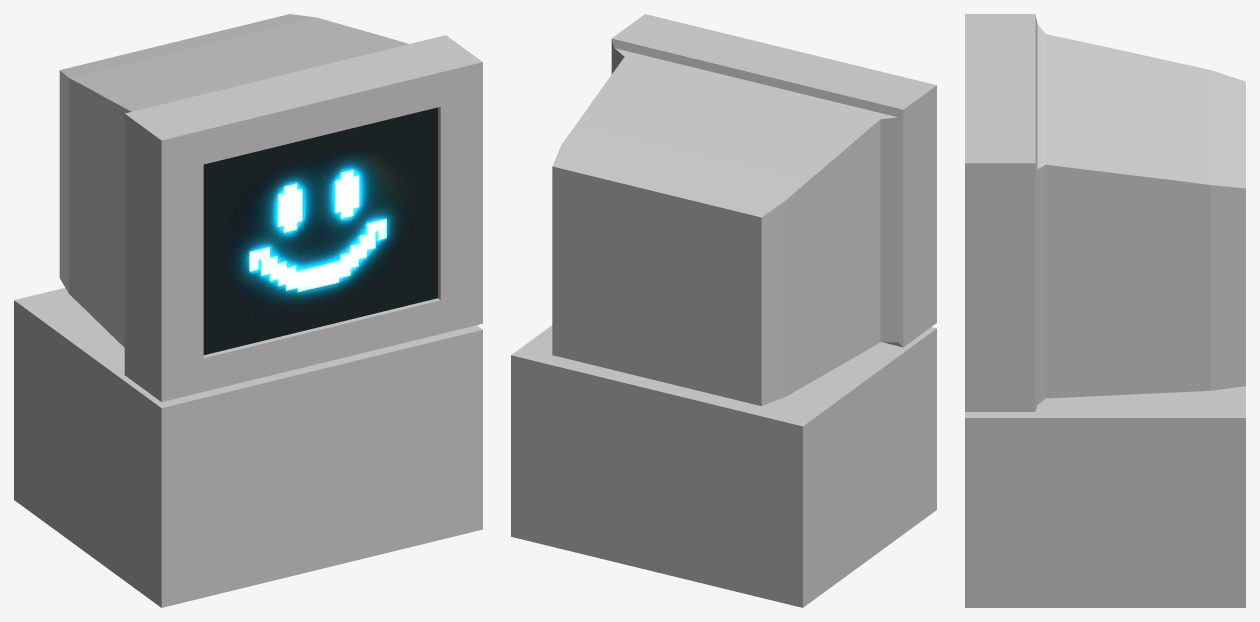
The model's file is MonitorStylised-103.glb.
3 renders of one model, left to right at view 1: azimuth 30°, elevation 25°; view 2: azimuth 150°, elevation 25°; view 3: azimuth 270°, elevation 25°, orthographic. The views are drawn at different scales.
Parts seen in each view (by area): view 1: Cube.002, Cube.001; view 2: Cube.002, Cube.001; view 3: Cube.002, Cube.001.
Part boxes in pixels (x1,y1,x2,y2): Cube.002: (59,14,482,401); Cube.001: (14,288,482,607); Cube.002: (552,14,936,405); Cube.001: (511,325,936,607); Cube.002: (965,14,1245,411); Cube.001: (965,386,1245,607).
Size of the model in its own units: 2.52 by 3.5 by 2.
Materials: 2 (1 with a texture image).
